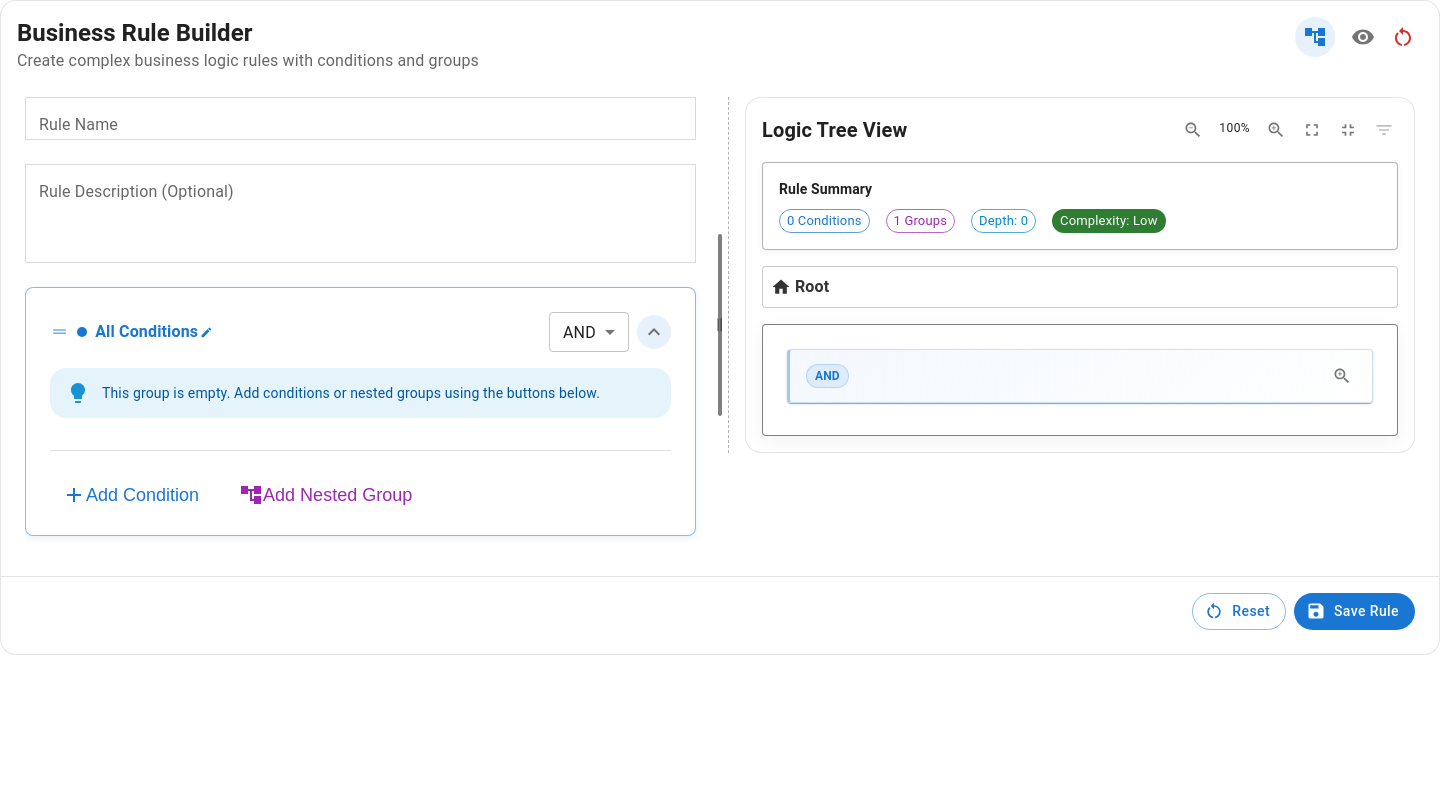
RuleBuilder › shows validation warning if saving with empty rule
Click the button "Save Rule".
click(1354, 611)  # box 1294,593 -> 1415,630
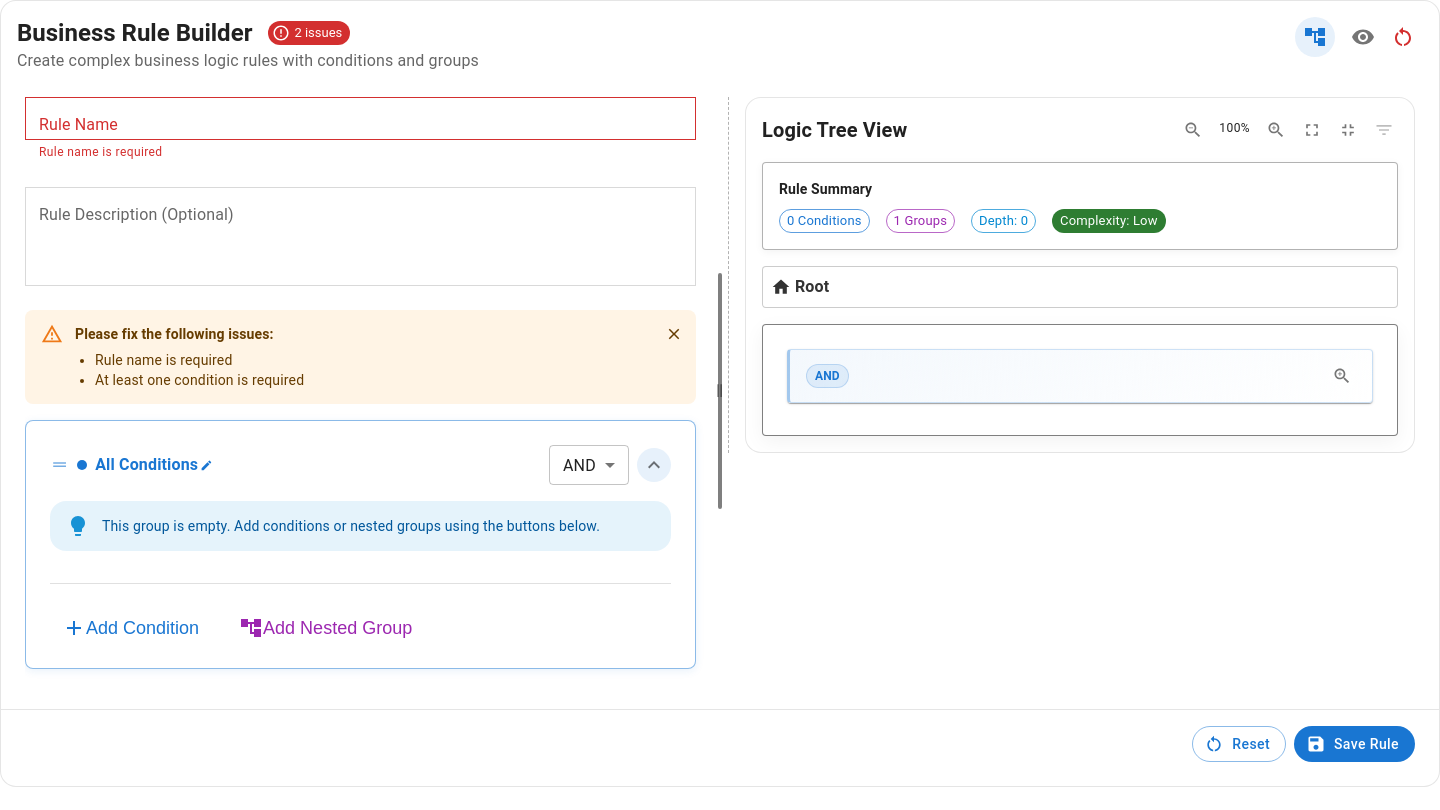
Expected: the heading "Please fix the following issues:" is shown, 75,324 -> 304,346
